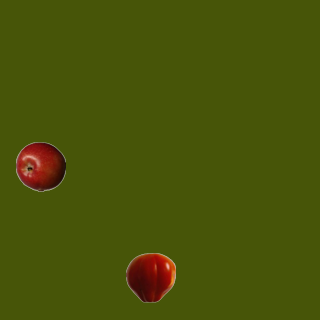Apple Braeburn: (15, 141, 65, 191)
Tomato 1: (125, 252, 175, 302)
